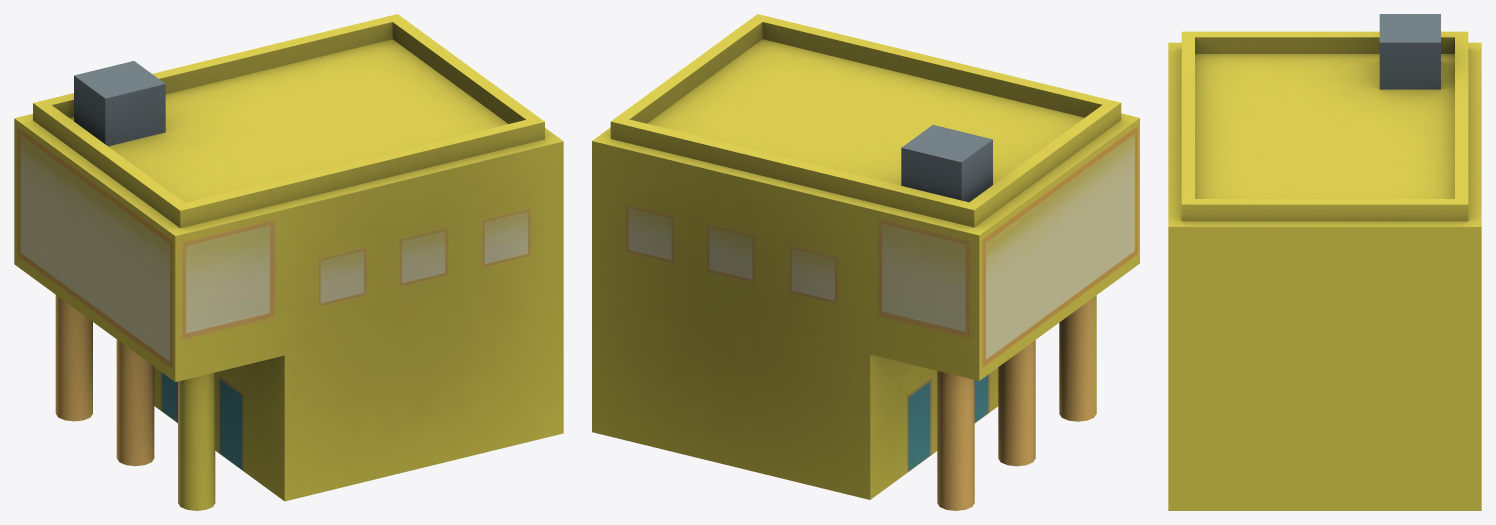
Rendered from Foxy_home.fbx.
3 views of the same model, side by side, from view 1: azimuth 30°, elevation 25°; view 2: azimuth 150°, elevation 25°; view 3: azimuth 270°, elevation 25° (orthographic). The views are drawn at different scales.
Parts seen in each view (by area): view 1: Foxy_home; view 2: Foxy_home; view 3: Foxy_home.
Boxes of the visible parts, x1,y1,x2,y2 form: Foxy_home: (14, 14, 563, 510); Foxy_home: (592, 14, 1139, 510); Foxy_home: (1168, 14, 1481, 510).
Size of the model in its own units: 83.53 by 69.97 by 60.
Materials: 1 (1 with a texture image).
